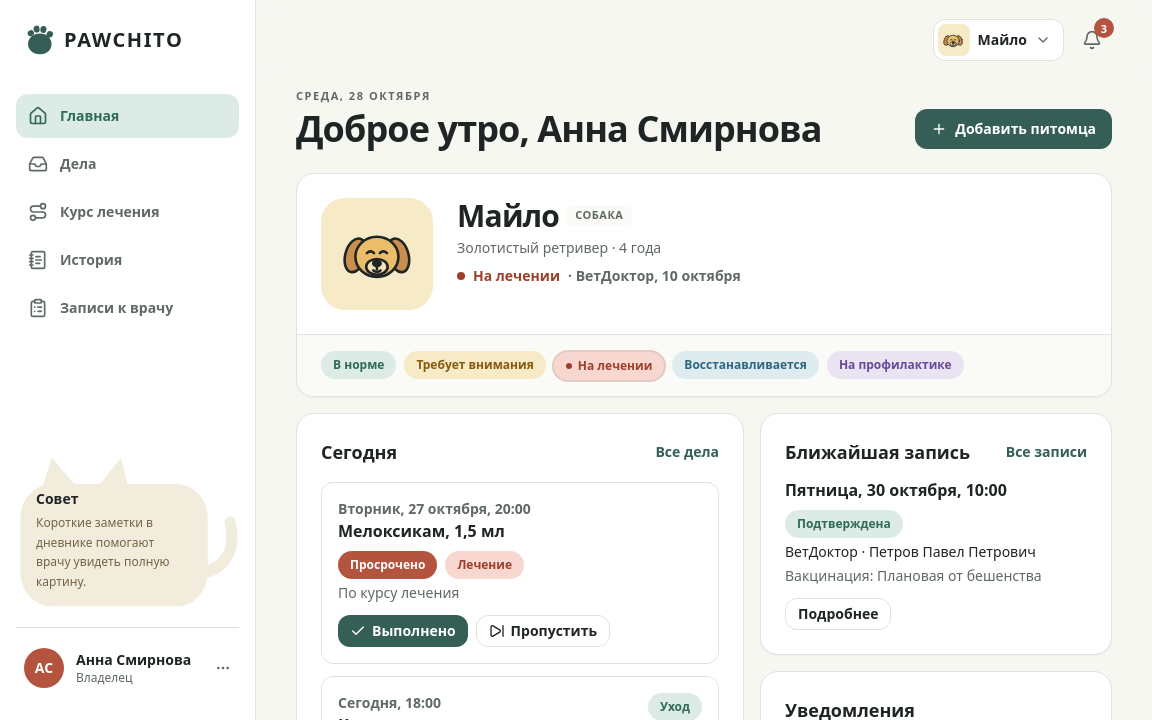
Scenario: HomePage: сводка выбранного питомца › «Выполнено»: статус, дело уходит из сегодняшних, прогресс курса пересчитан, фокус на списке
The width and height of the screenshot is (1152, 720).
Click the button named "Выполнено, Мелоксикам, 1,5 мл, вторник, 27 октября, 20:00". click: (403, 630)
box: [338,614,468,646]
(page scrolled)
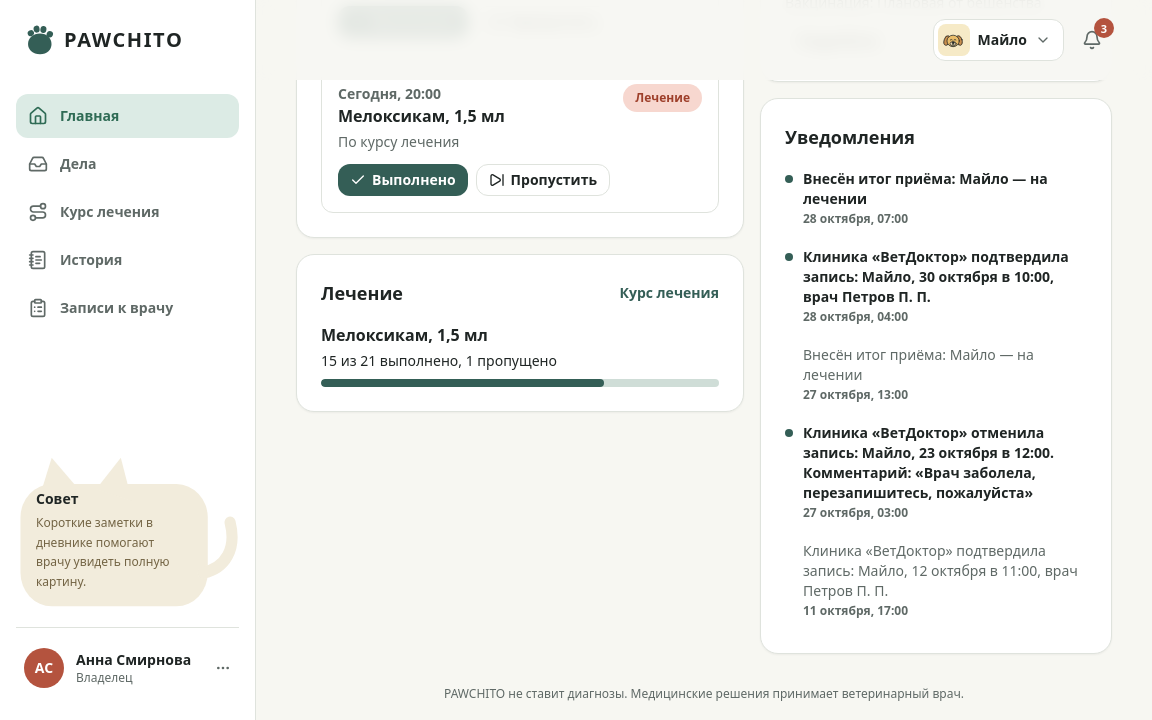
Check: the text "15 из 21 выполнено, 1 пропущено" is shown, box [321,350,557,370]
